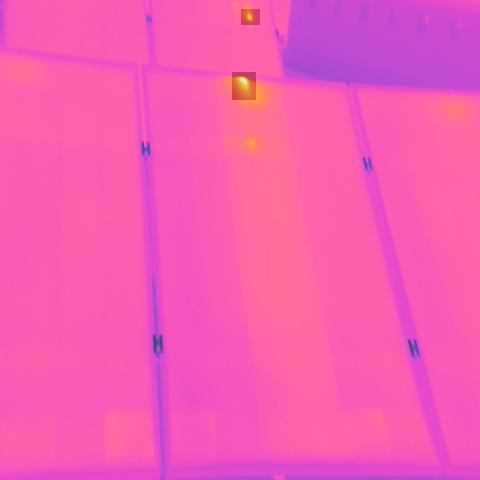fault: (232, 72, 256, 100), (241, 9, 260, 25)
